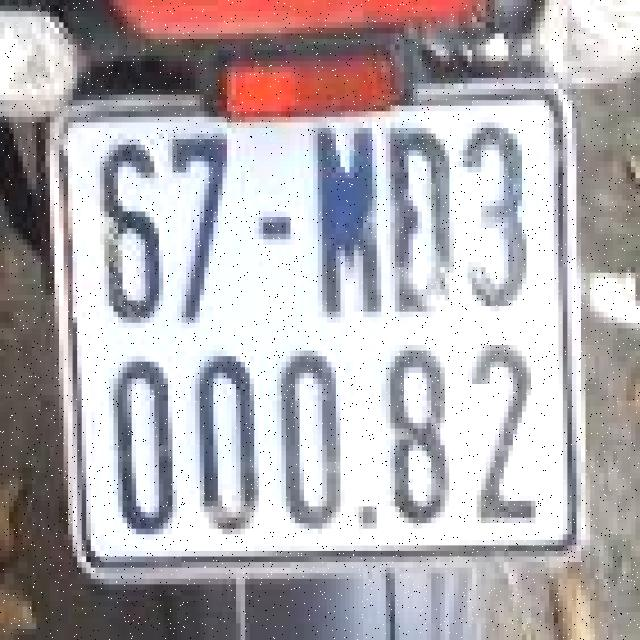0: (105, 353, 182, 554), (193, 350, 265, 540), (277, 348, 345, 531)
2: (470, 340, 542, 528)
3: (459, 122, 540, 312)
6: (91, 131, 168, 331)
7: (166, 128, 233, 323)
8: (381, 337, 454, 526)
D: (384, 122, 452, 318)
M: (306, 103, 384, 326)
